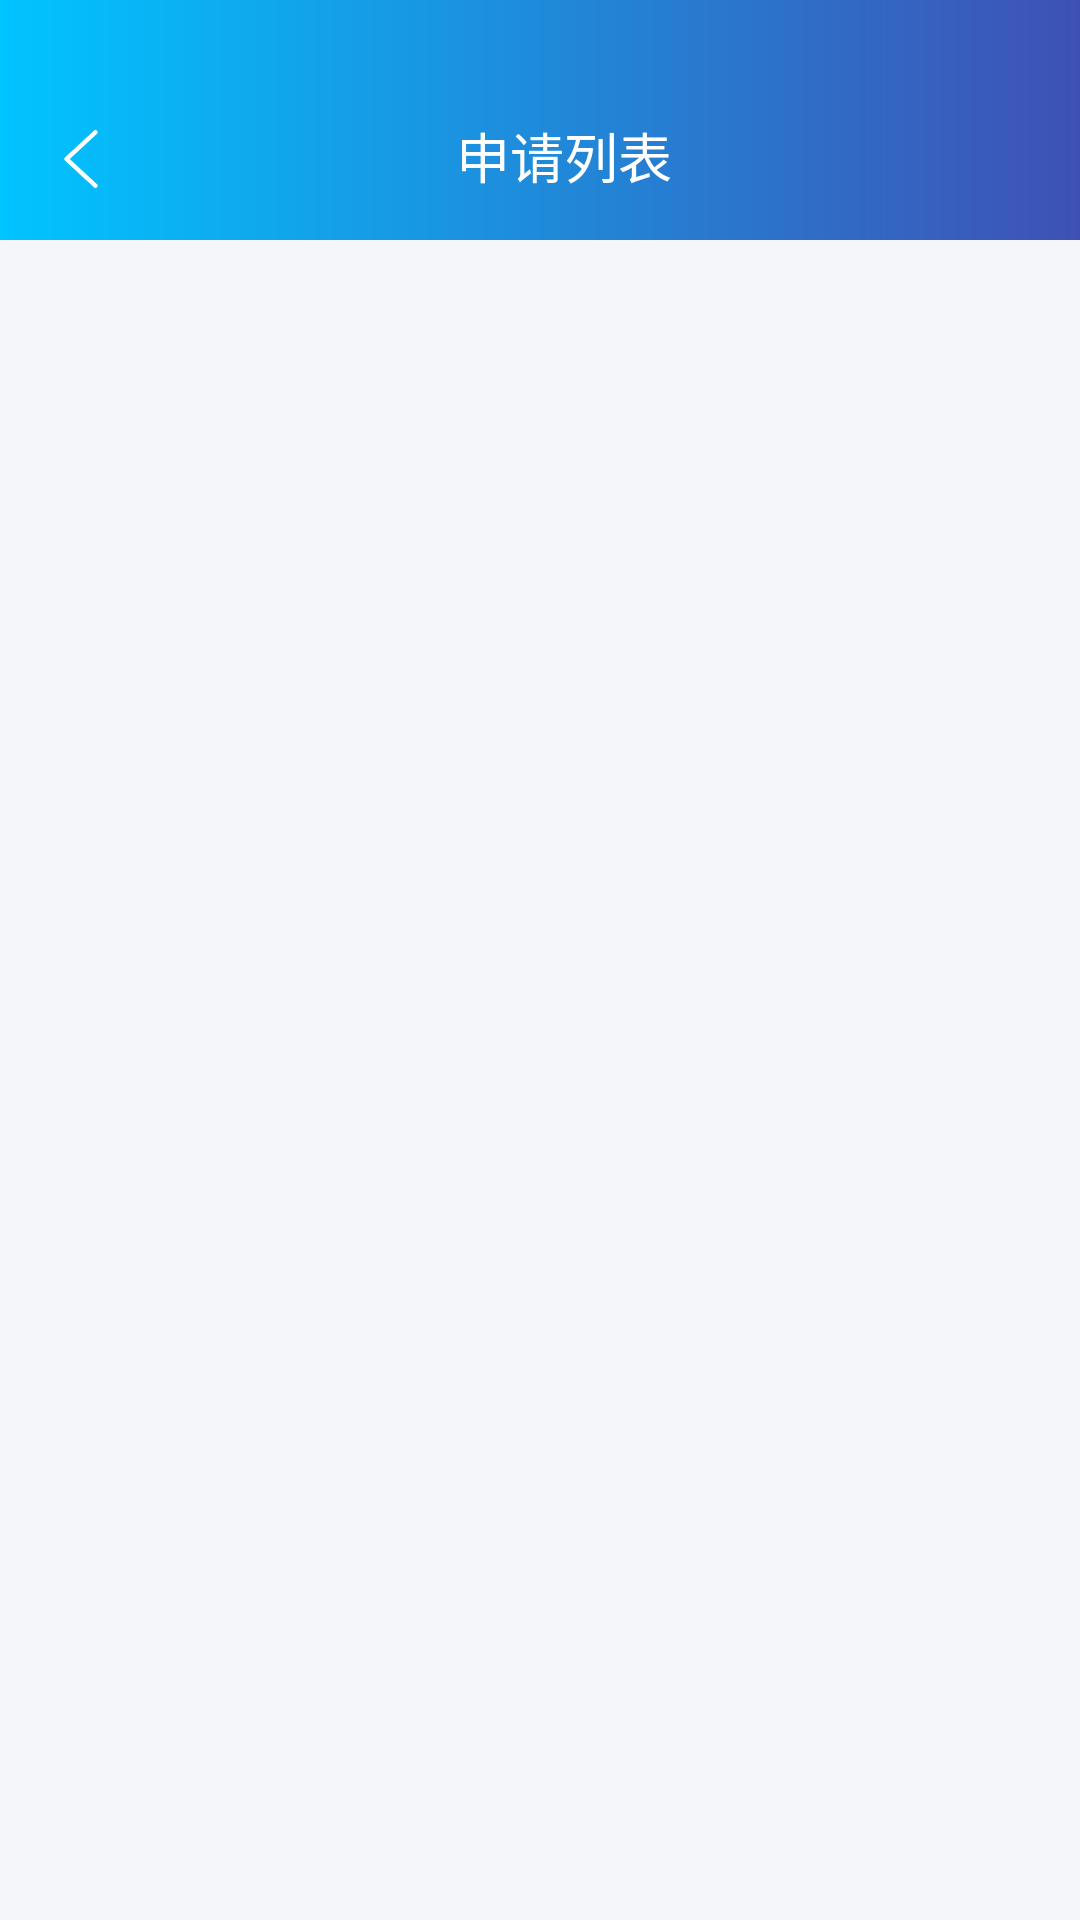

Icons on this 1080px×1920px Android screen, each with its box as (x1, y1, x2, y2):
back: (64, 130, 98, 188)
